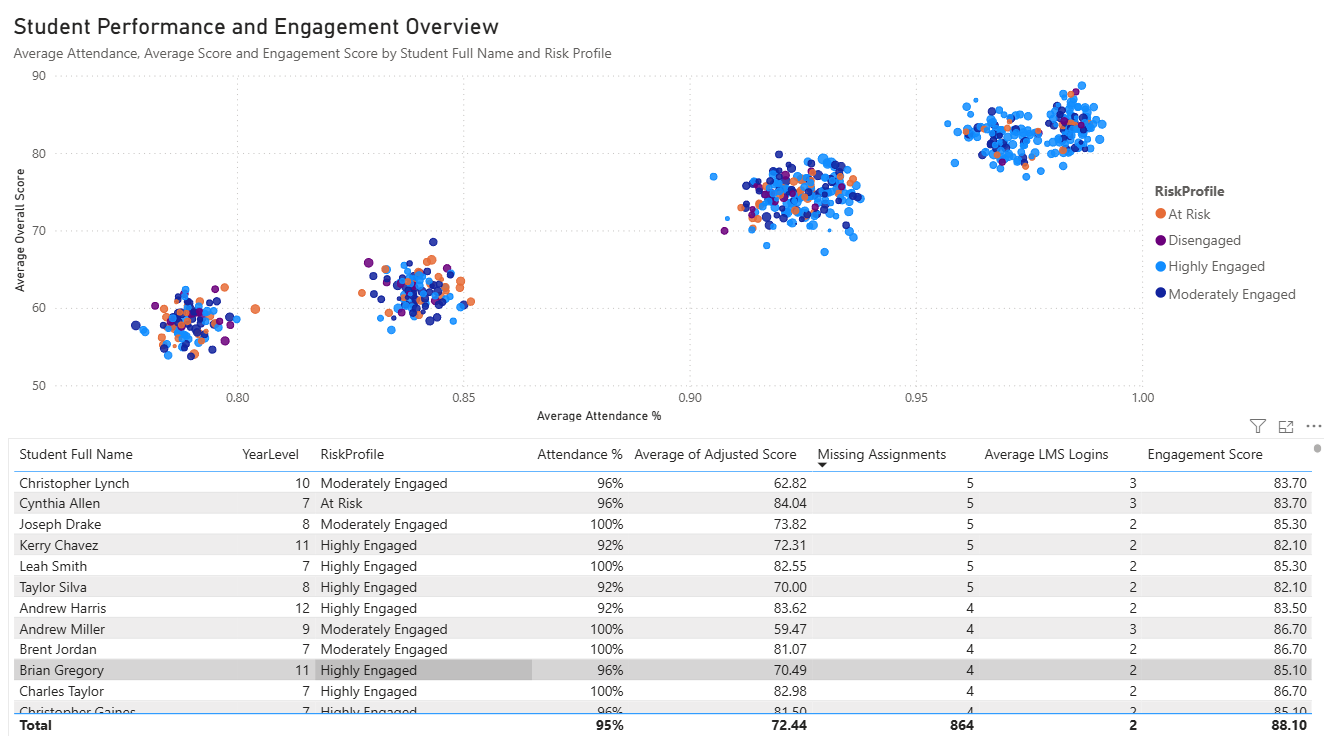

What the dashboard file says about the page in this screenshot:
{"tool":"powerbi","page":{"name":"Page 2","canvas":[1280,720],"ordinal":1},"visuals":[{"type":"scatterChart","title":"Student Performance and Engagement Overview","fields":{"Y":["Submissions.Average Score"],"Series":["Students.RiskProfile"],"Size":["Attendance.Engagement Score"],"Category":["Students.Student Full Name"],"X":["Attendance.Average Adjusted Attendance"]},"box":[14.3,24.3,1250.2,397.2],"z":0},{"type":"tableEx","fields":{"Values":["Students.Student Full Name","Students.YearLevel","Students.RiskProfile","Attendance.Attendance %","Avg(Submissions.Adjusted Score)","Submissions.Missing Assignments","CanvasActivity.Average LMS Logins","Attendance.Engagement Score"]},"box":[14.3,431.4,1265.7,289.1],"z":1000}]}

Visuals, with their boxes in screenshot pixels (x1, y1, x2, y2), scaled from the page's 1280x720 canvas onto the 1324x736 screenshot:
"Student Performance and Engagement Overview" scatterChart: [15,25,1308,431]
tableEx - Students.Student Full Name x Students.YearLevel: [15,441,1323,735]
